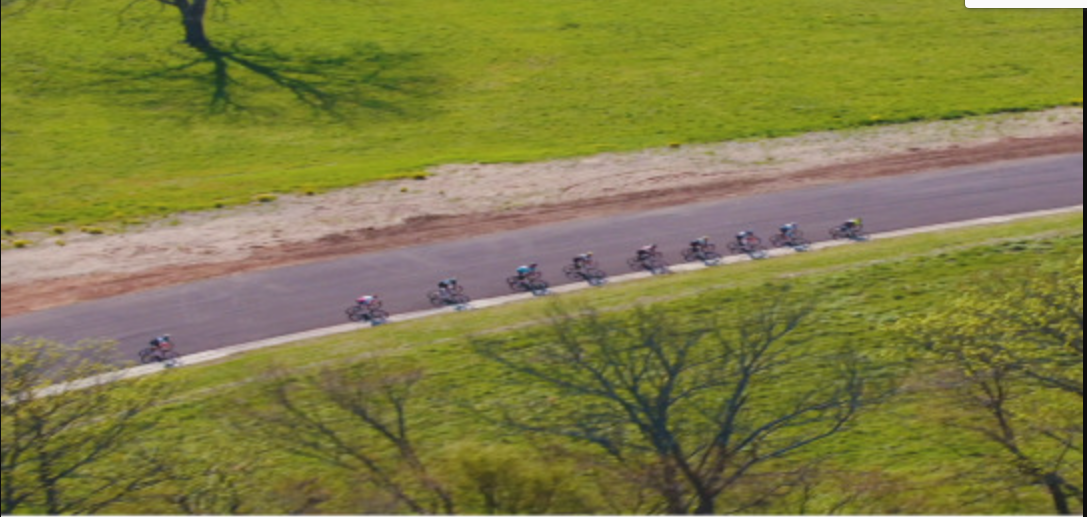person: (496, 260, 558, 298), (135, 329, 189, 372), (823, 212, 879, 249), (618, 239, 673, 273), (676, 232, 725, 270), (417, 278, 474, 310), (764, 218, 817, 252), (559, 249, 607, 285), (338, 292, 392, 323), (726, 224, 769, 261)
